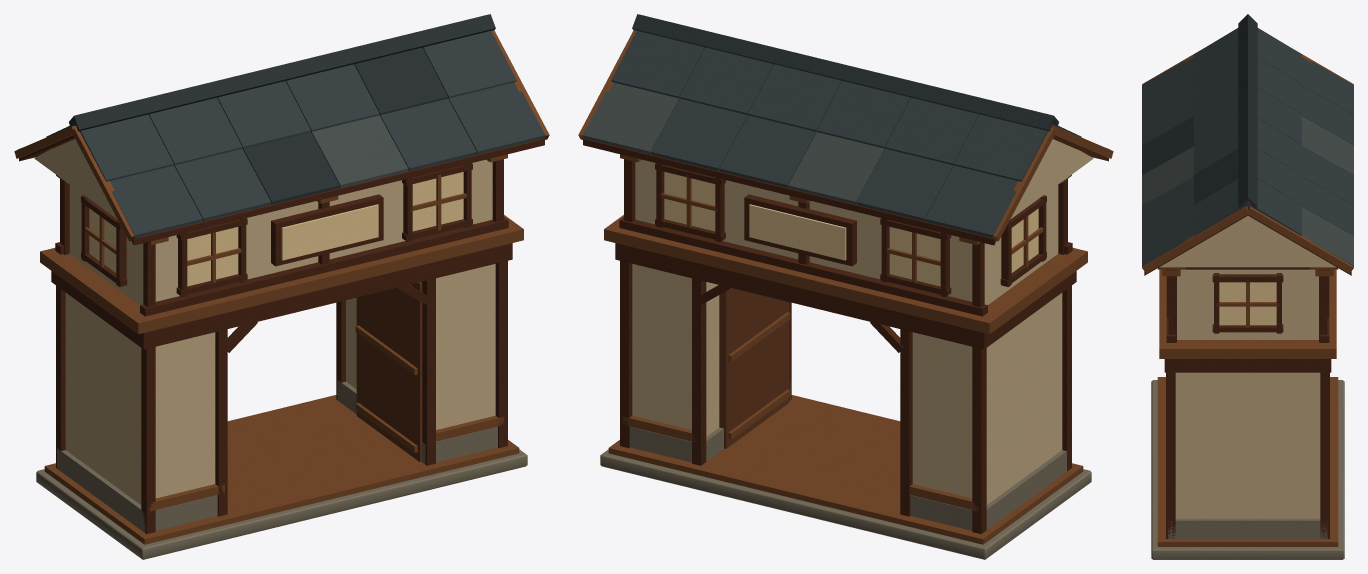
The model's file is gate_tower.glb.
3 renders of one model, left to right at view 1: azimuth 30°, elevation 25°; view 2: azimuth 150°, elevation 25°; view 3: azimuth 270°, elevation 25°, orthographic. The views are drawn at different scales.
Visible parts, largest first — view 1: Gate_Roof, Gate_Piers, Gate_UpperChamber, Gate_Base, Gate_OpenDoors, Gate_UpperFloor, Gate_Lintel, Gate_BlankPlaques, Gate_Braces; view 2: Gate_Roof, Gate_Piers, Gate_UpperChamber, Gate_Base, Gate_OpenDoors, Gate_UpperFloor, Gate_Lintel, Gate_BlankPlaques, Gate_Braces; view 3: Gate_Roof, Gate_Piers, Gate_UpperChamber, Gate_Base, Gate_UpperFloor, Gate_Lintel, Gate_Brackets.
Boxes of the visible parts, <box> form: Gate_Roof: <box>14,14,549,245</box>; Gate_Piers: <box>56,261,507,534</box>; Gate_UpperChamber: <box>55,159,508,316</box>; Gate_Base: <box>36,395,527,559</box>; Gate_OpenDoors: <box>355,282,422,461</box>; Gate_UpperFloor: <box>40,215,523,334</box>; Gate_Lintel: <box>51,243,512,349</box>; Gate_BlankPlaques: <box>271,194,383,266</box>; Gate_Braces: <box>224,285,430,352</box>; Gate_Roof: <box>578,14,1113,245</box>; Gate_Piers: <box>620,261,1071,534</box>; Gate_UpperChamber: <box>619,159,1072,316</box>; Gate_Base: <box>600,395,1091,559</box>; Gate_OpenDoors: <box>719,288,790,448</box>; Gate_UpperFloor: <box>604,215,1087,334</box>; Gate_Lintel: <box>615,243,1076,349</box>; Gate_BlankPlaques: <box>744,194,856,266</box>; Gate_Braces: <box>697,285,903,352</box>; Gate_Roof: <box>1142,14,1353,275</box>; Gate_Piers: <box>1166,372,1329,538</box>; Gate_UpperChamber: <box>1166,267,1329,342</box>; Gate_Base: <box>1151,377,1344,559</box>; Gate_UpperFloor: <box>1159,269,1336,358</box>; Gate_Lintel: <box>1164,359,1331,372</box>; Gate_Brackets: <box>1157,267,1338,276</box>.
Size of the model in its own units: 6.39 by 5.98 by 3.1.
Materials: 9 (9 with a texture image).
